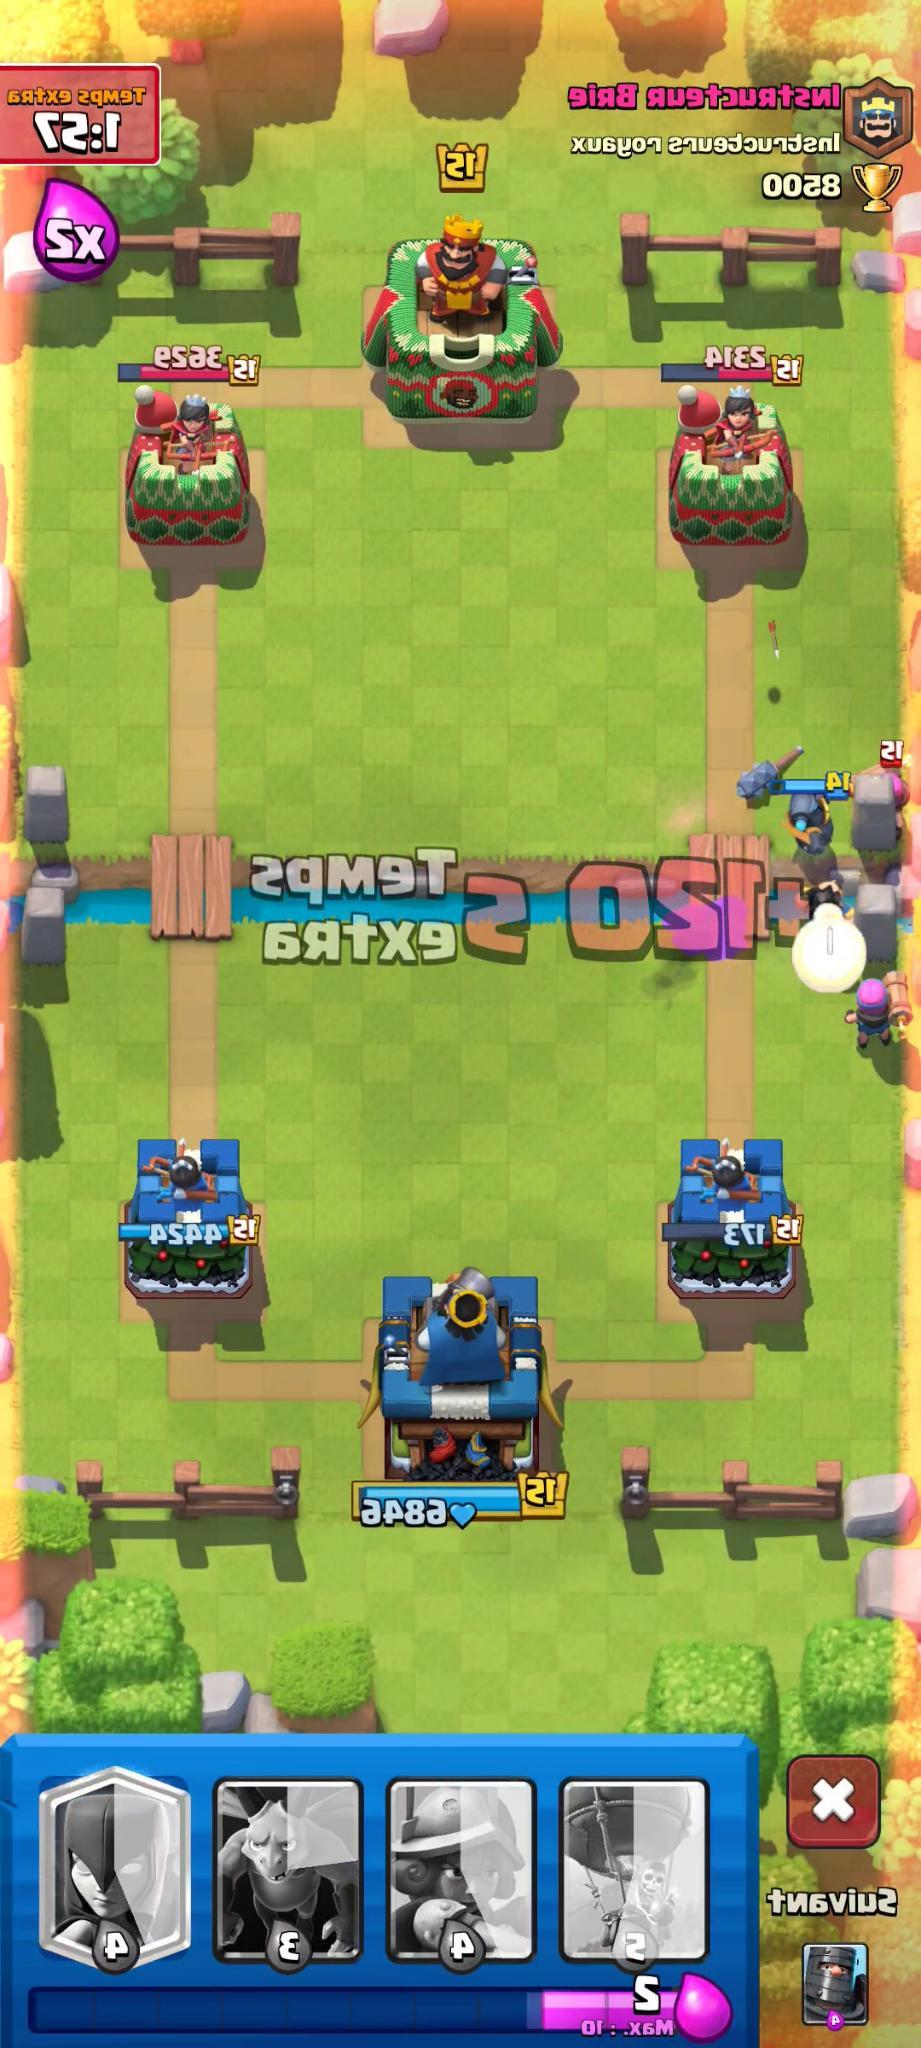player_firecraker: (842, 955, 915, 1060)
player_mini_pekka: (771, 758, 854, 865)
